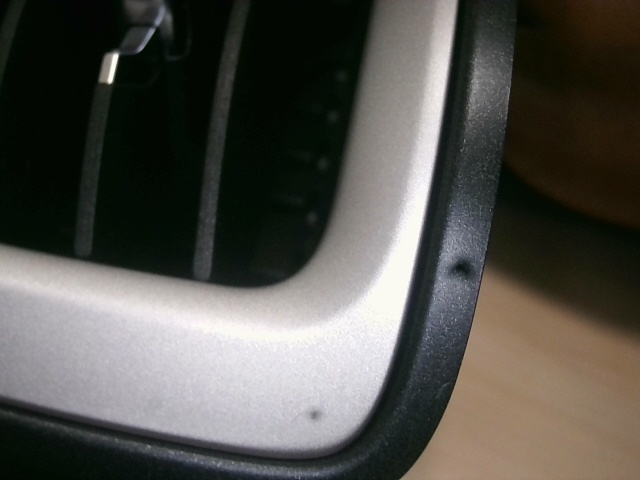NG: (293, 400, 318, 424), (430, 377, 455, 401)
